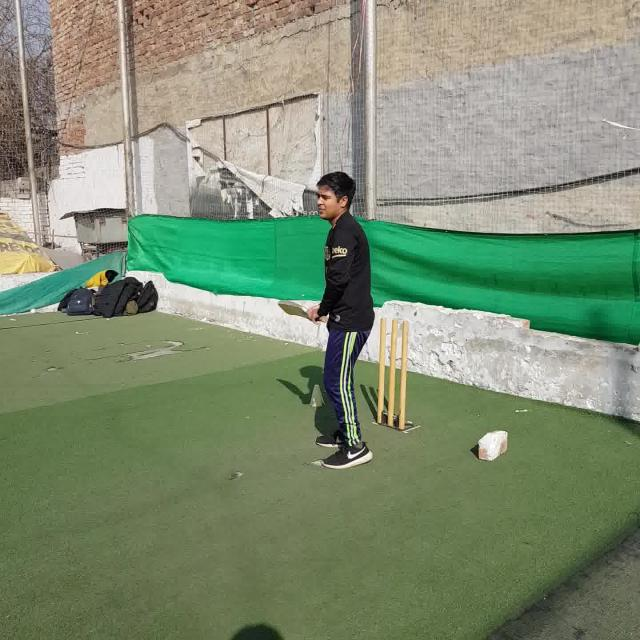ball: (31, 308, 36, 314)
bat: (278, 300, 328, 322)
